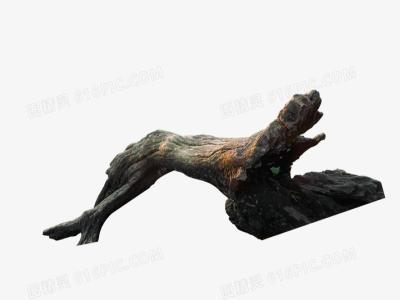Root: (43, 90, 384, 244)
